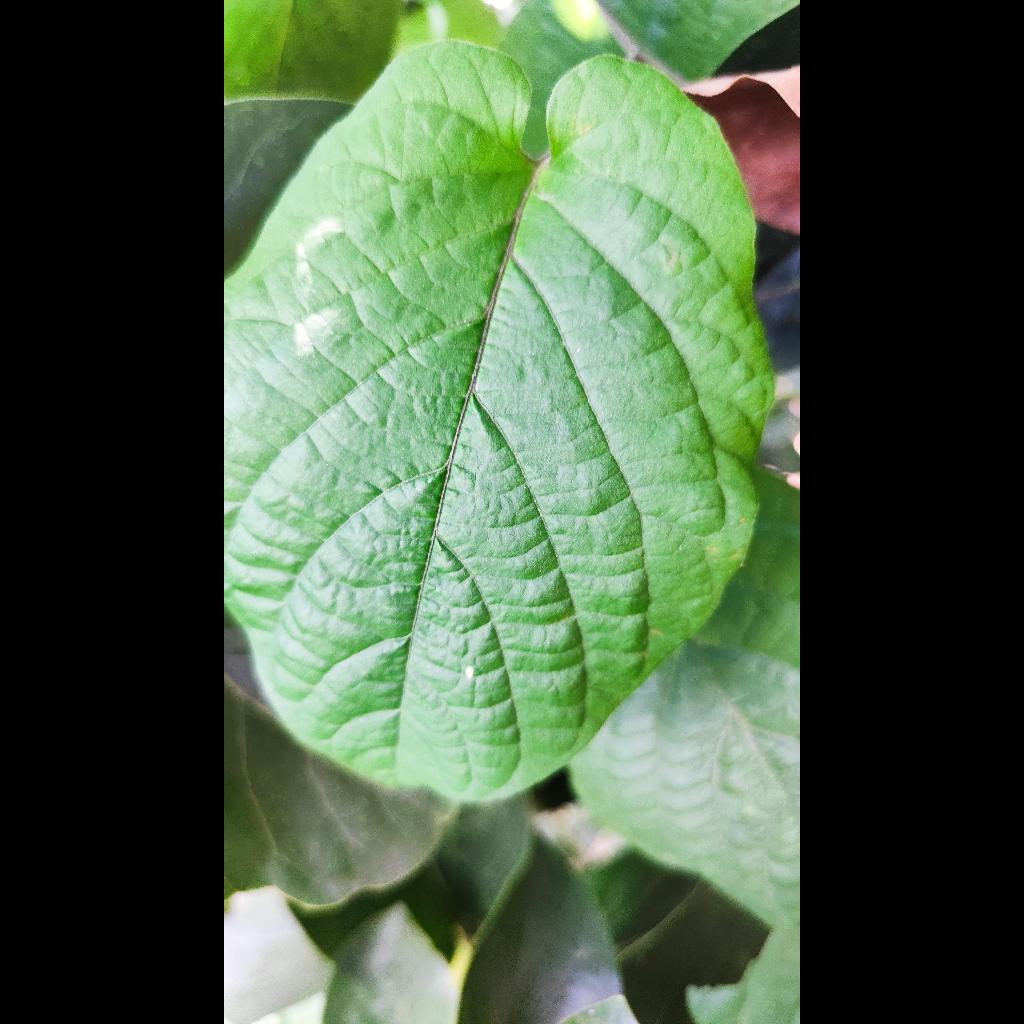hoja_sana: (224, 41, 772, 801)
